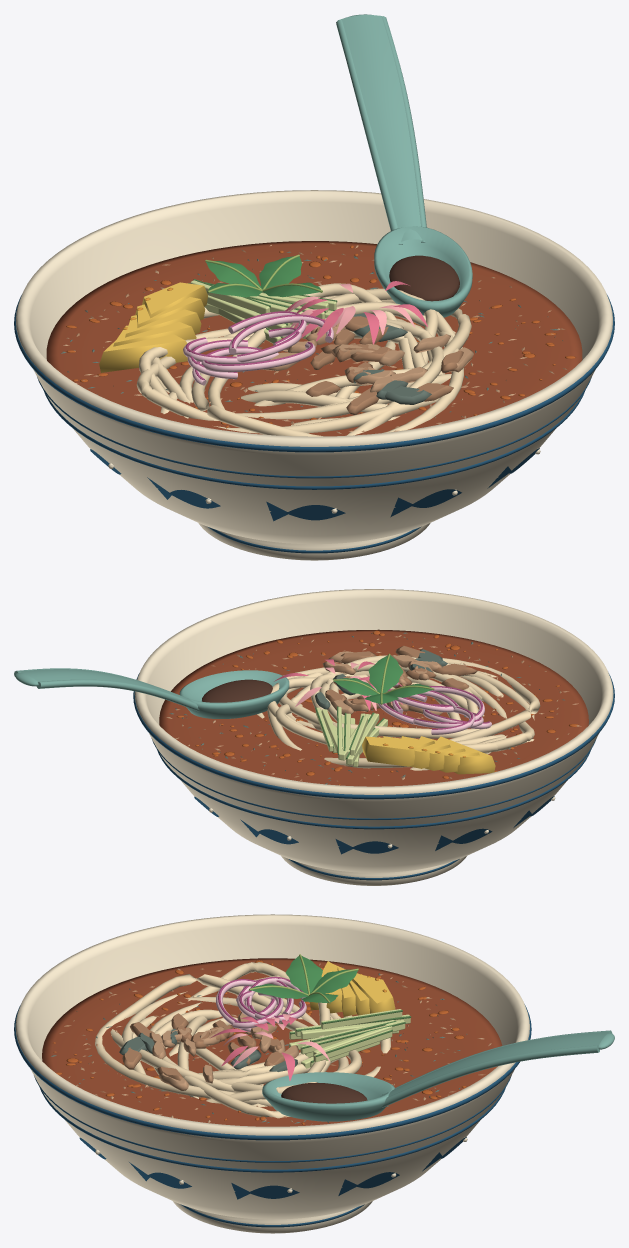
The picture shows the model from 3 angles, top to bottom: view 1: azimuth 30°, elevation 25°; view 2: azimuth 150°, elevation 25°; view 3: azimuth 270°, elevation 25°; orthographic projection. The views are drawn at different scales.
Visible parts, largest first — view 1: Noodle bowl, Soup, Garnishes, Noodles, Serving spoon, Porcelain motif, Fish topping, Soup seasoning; view 2: Noodle bowl, Soup, Garnishes, Noodles, Porcelain motif, Serving spoon, Fish topping, Soup seasoning; view 3: Noodle bowl, Soup, Noodles, Garnishes, Serving spoon, Porcelain motif, Fish topping, Soup seasoning.
Part boxes in pixels (<box>): Noodle bowl: <box>16,190,612,560</box>; Soup: <box>46,241,582,436</box>; Garnishes: <box>99,254,427,385</box>; Noodles: <box>136,283,471,436</box>; Serving spoon: <box>336,14,472,317</box>; Porcelain motif: <box>14,295,614,553</box>; Fish topping: <box>263,313,473,414</box>; Soup seasoning: <box>61,243,566,433</box>; Noodle bowl: <box>134,589,613,885</box>; Soup: <box>159,629,588,786</box>; Garnishes: <box>274,653,495,774</box>; Noodles: <box>257,655,540,770</box>; Porcelain motif: <box>133,673,614,880</box>; Serving spoon: <box>14,668,289,718</box>; Fish topping: <box>315,646,477,715</box>; Soup seasoning: <box>166,631,581,784</box>; Noodle bowl: <box>15,914,529,1233</box>; Soup: <box>42,958,502,1126</box>; Noodles: <box>95,962,390,1118</box>; Garnishes: <box>210,954,411,1080</box>; Serving spoon: <box>262,1030,614,1121</box>; Porcelain motif: <box>14,1004,531,1227</box>; Fish topping: <box>119,1012,298,1090</box>; Soup seasoning: <box>51,963,491,1124</box>.
Bounding box in the file's own units: 0.2392 × 0.1312 × 0.2775.
